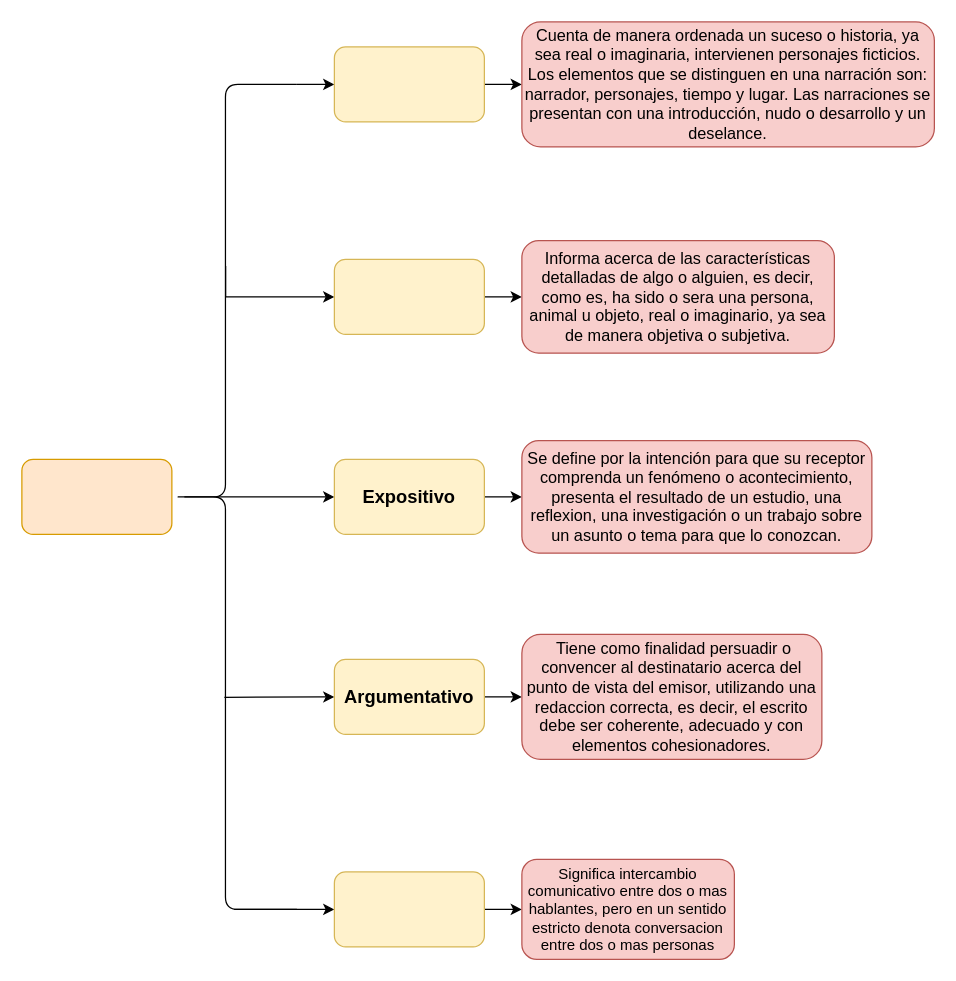
The diagram is 956 pixels wide and 981 high, and some of its shapes have lost their labels. The box of each missing label's shape, as (x1, y1, x2, y2) in pixels:
Descriptivo: (333, 258, 484, 334)
Diálogo: (333, 871, 484, 947)
los prototipos textuales: (21, 458, 172, 534)
Narrativo: (333, 46, 484, 122)
